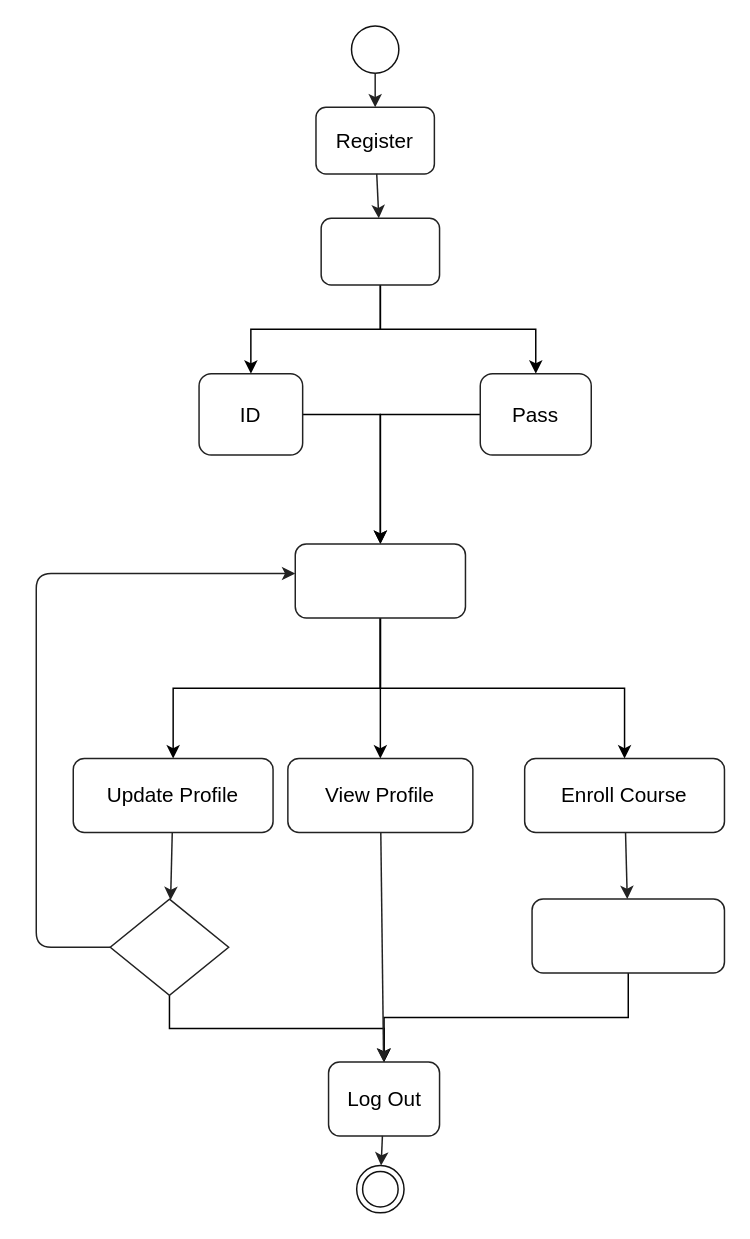
The diagram is 750 pixels wide and 1239 high, and some of its shapes have lost their labels. The centre of each missing label's shape, as x and y in pixels:
"Check Status" belongs at point (627, 935).
"Login" belongs at point (380, 251).
"Select" belongs at point (379, 580).
